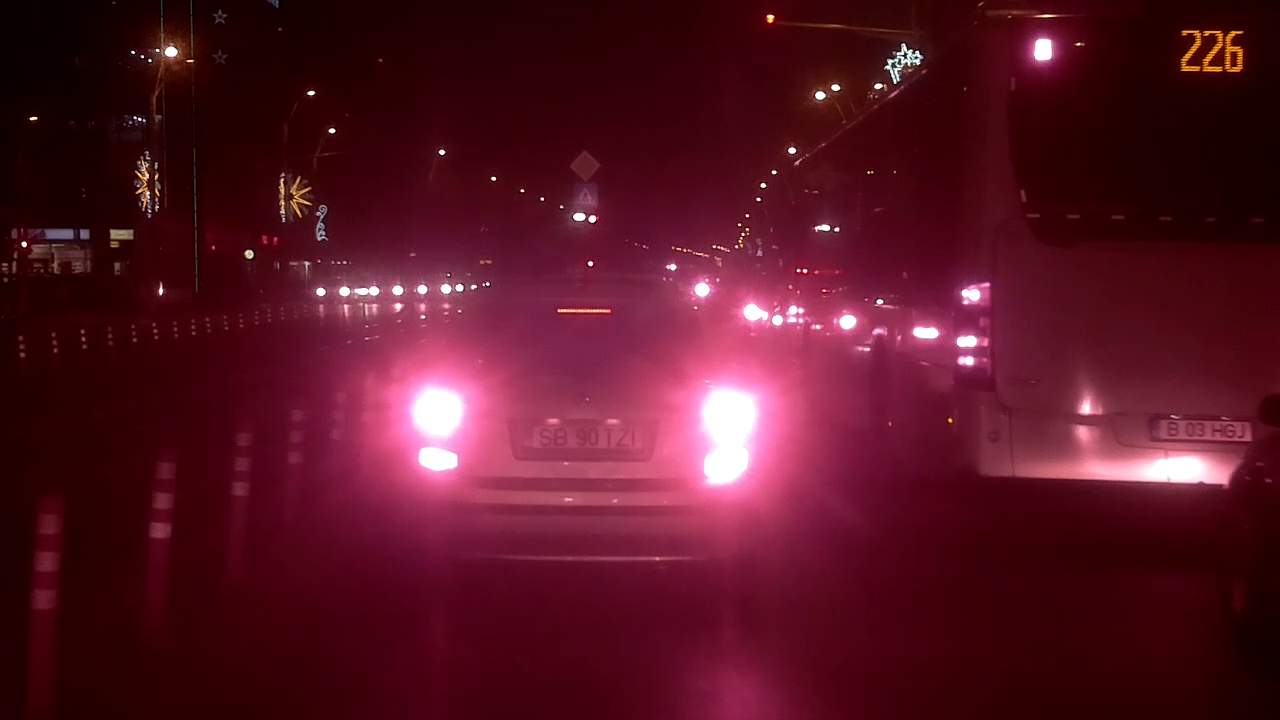license-plate: (516, 422, 648, 452), (1147, 414, 1257, 445)
